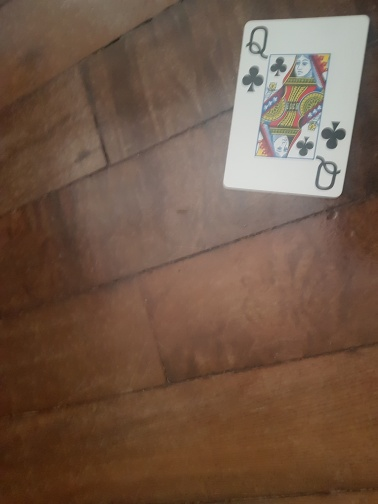queen: (224, 14, 371, 200)
